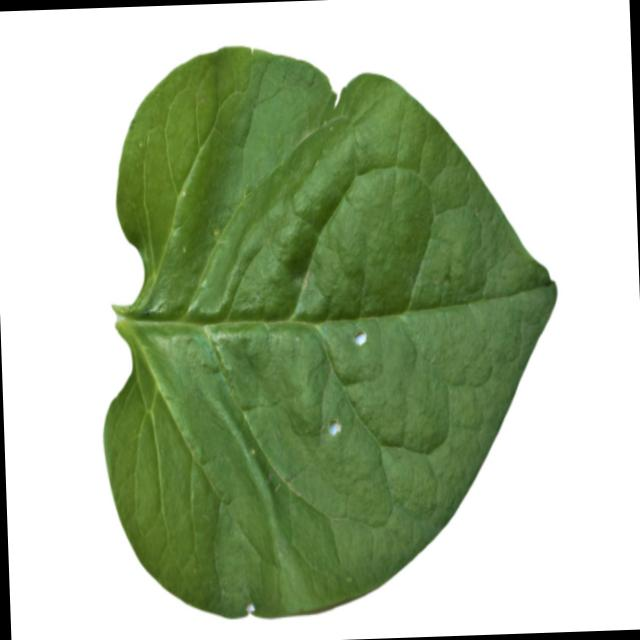Medicinal-Basale: (89, 32, 566, 624)
